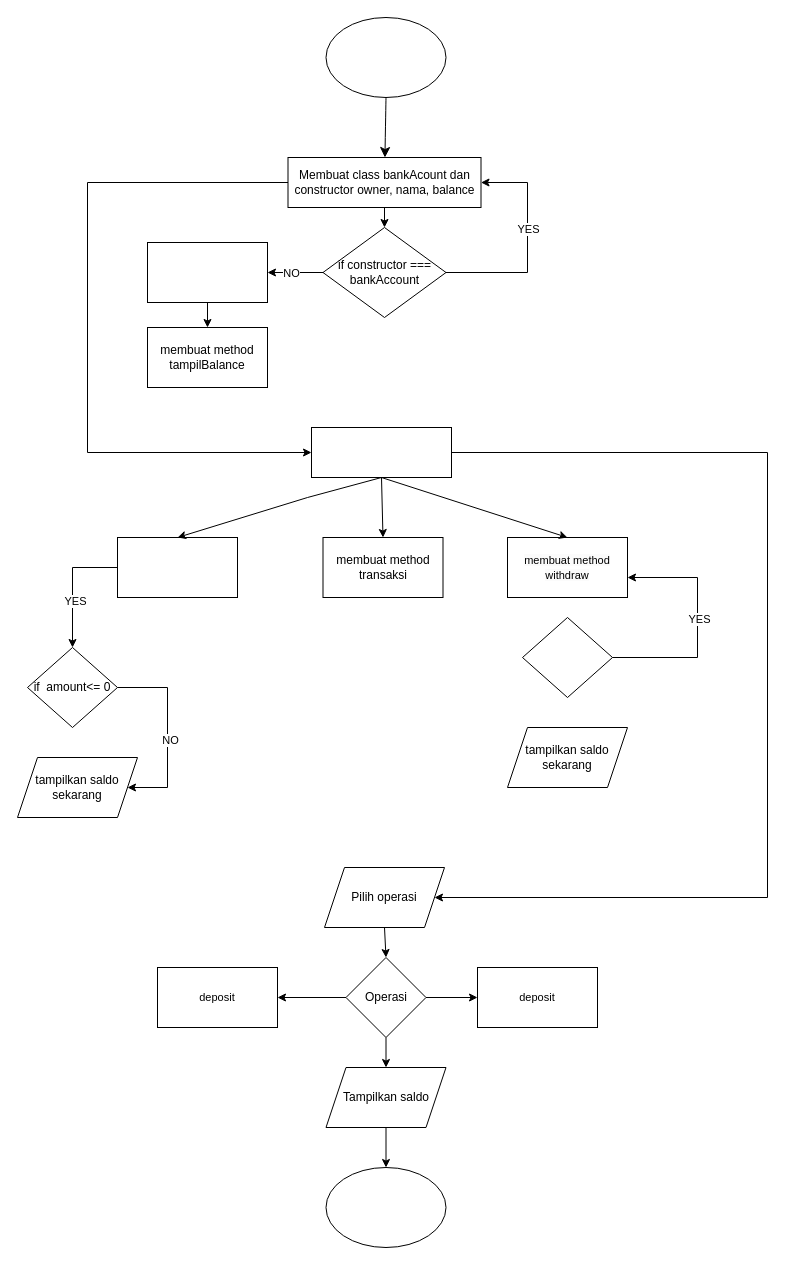
Some shapes in this 793 by 1265 pixel diagram are drawn without their labels. Here are the shapes that lost their labels. From the top down, the centre of each, then its label:
At point (385, 57): "Start".
At point (207, 272): "membuat property owner, nama, balance".
At point (381, 452): "Membuat class Transaksi extends bankAccount".
At point (177, 567): "membuat method deposit".
At point (567, 657): "if amount > balance".
At point (385, 1207): "End".
